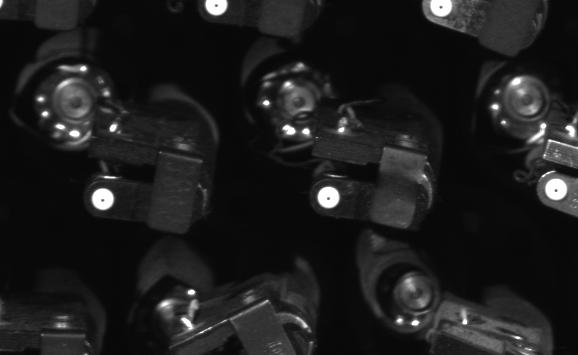fiber: (86, 183, 120, 214), (541, 173, 574, 204), (312, 183, 347, 212), (423, 1, 461, 24), (199, 1, 235, 18)
